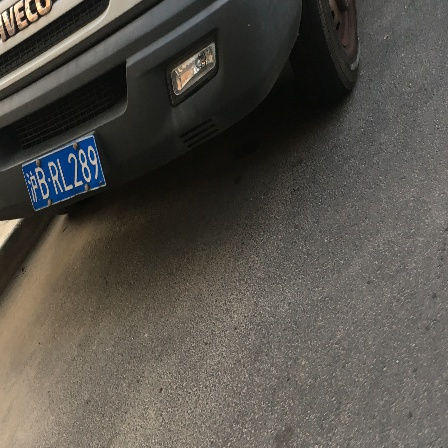plate: (16, 138, 106, 204)
